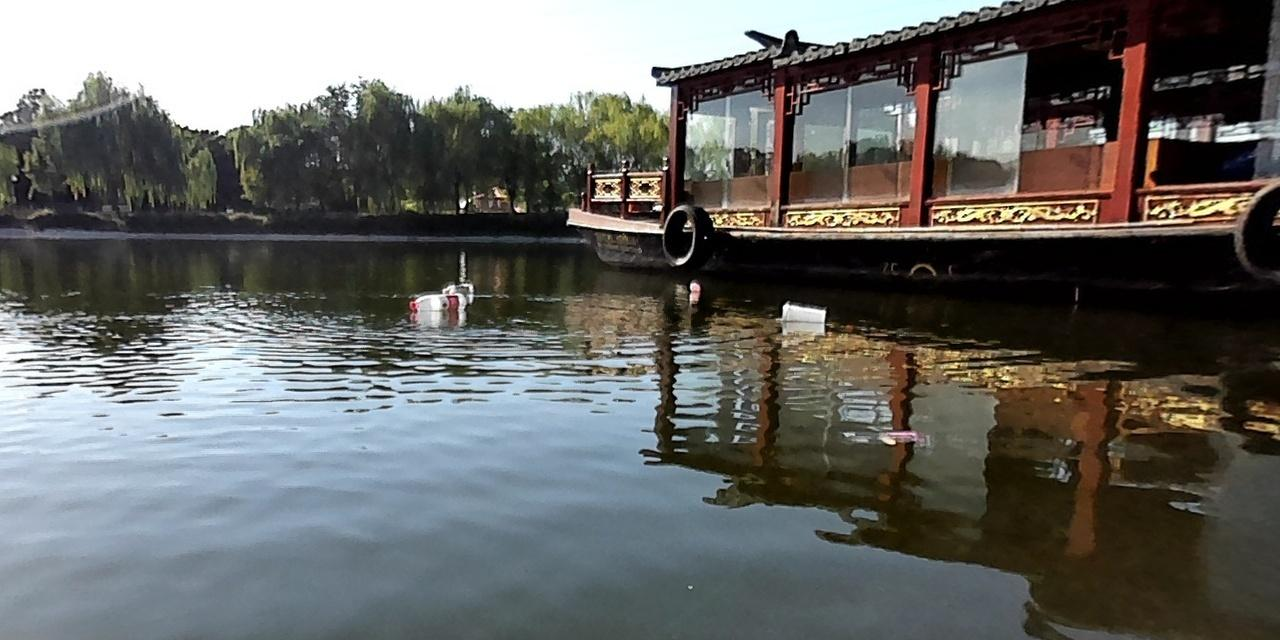bottle: (406, 292, 463, 311), (777, 301, 828, 322), (442, 281, 473, 294), (687, 281, 698, 292)
